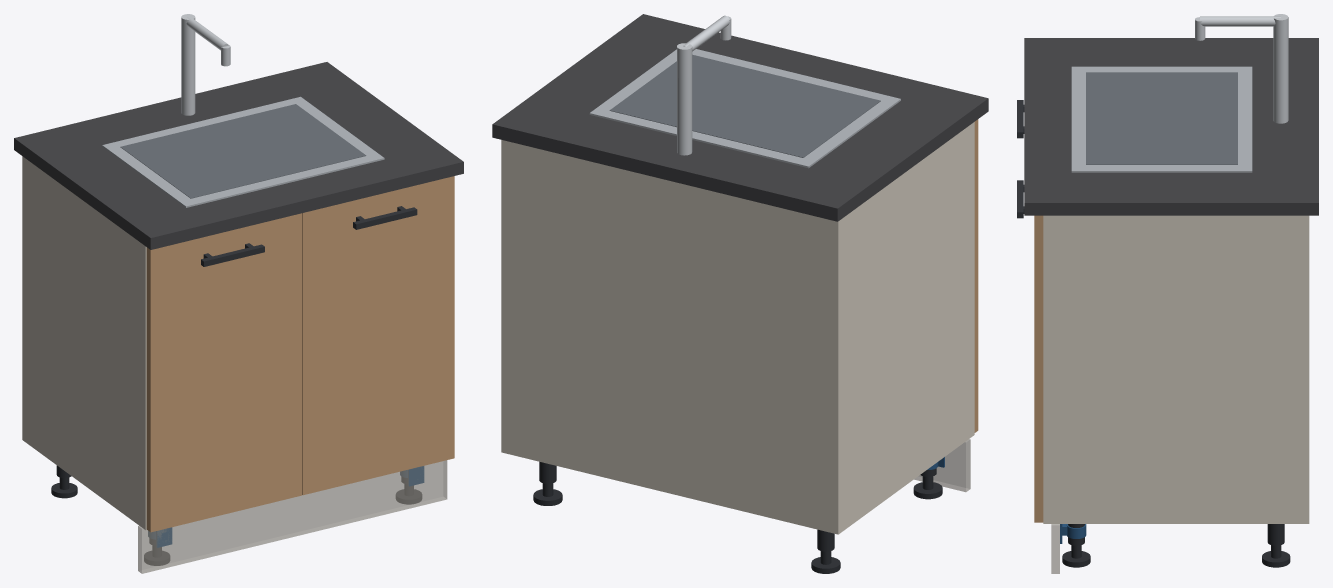
The model's file is sink-legs.glb.
3 renders of one model, left to right at view 1: azimuth 30°, elevation 25°; view 2: azimuth 150°, elevation 25°; view 3: azimuth 270°, elevation 25°, orthographic. The views are drawn at different scales.
Parts seen in each view (by area): view 1: 하부장 문, 하부장 문.001, 싱크 하부장, 상판, 걸레받이 판, 싱크볼 안, 싱크볼 테, 수전, 싱크다리발, 걸레받이 클립, 하부장 손잡이.001, 하부장 손잡이; view 2: 싱크 하부장, 상판, 싱크볼 안, 싱크볼 테, 수전, 싱크다리발, 하부장 문, 걸레받이 판; view 3: 싱크 하부장, 상판, 싱크볼 안, 싱크볼 테, 하부장 문.001, 수전, 싱크다리발, 걸레받이 판.
Boxes of the visible parts, left/top/right/bottom form: 하부장 문: left=146, top=213, right=302, bottom=532; 하부장 문.001: left=302, top=176, right=454, bottom=495; 싱크 하부장: left=22, top=156, right=146, bottom=530; 상판: left=14, top=62, right=463, bottom=249; 걸레받이 판: left=138, top=460, right=447, bottom=573; 싱크볼 안: left=120, top=104, right=366, bottom=198; 싱크볼 테: left=102, top=96, right=384, bottom=207; 수전: left=181, top=14, right=230, bottom=115; 싱크다리발: left=51, top=465, right=421, bottom=565; 걸레받이 클립: left=148, top=466, right=424, bottom=547; 하부장 손잡이.001: left=353, top=207, right=417, bottom=229; 하부장 손잡이: left=201, top=244, right=264, bottom=266; 싱크 하부장: left=501, top=122, right=974, bottom=534; 상판: left=492, top=14, right=988, bottom=221; 싱크볼 안: left=609, top=54, right=880, bottom=157; 싱크볼 테: left=589, top=49, right=900, bottom=168; 수전: left=677, top=15, right=731, bottom=155; 싱크다리발: left=533, top=461, right=942, bottom=573; 하부장 문: left=974, top=119, right=978, bottom=432; 걸레받이 판: left=914, top=439, right=970, bottom=492; 싱크 하부장: left=1043, top=215, right=1309, bottom=523; 상판: left=1024, top=38, right=1318, bottom=215; 싱크볼 안: left=1086, top=72, right=1237, bottom=164; 싱크볼 테: left=1071, top=66, right=1252, bottom=172; 하부장 문.001: left=1034, top=215, right=1043, bottom=522; 수전: left=1195, top=14, right=1288, bottom=123; 싱크다리발: left=1062, top=524, right=1290, bottom=567; 걸레받이 판: left=1051, top=524, right=1059, bottom=573.
Size of the model in its own units: 0.82 by 1.11 by 0.635.
